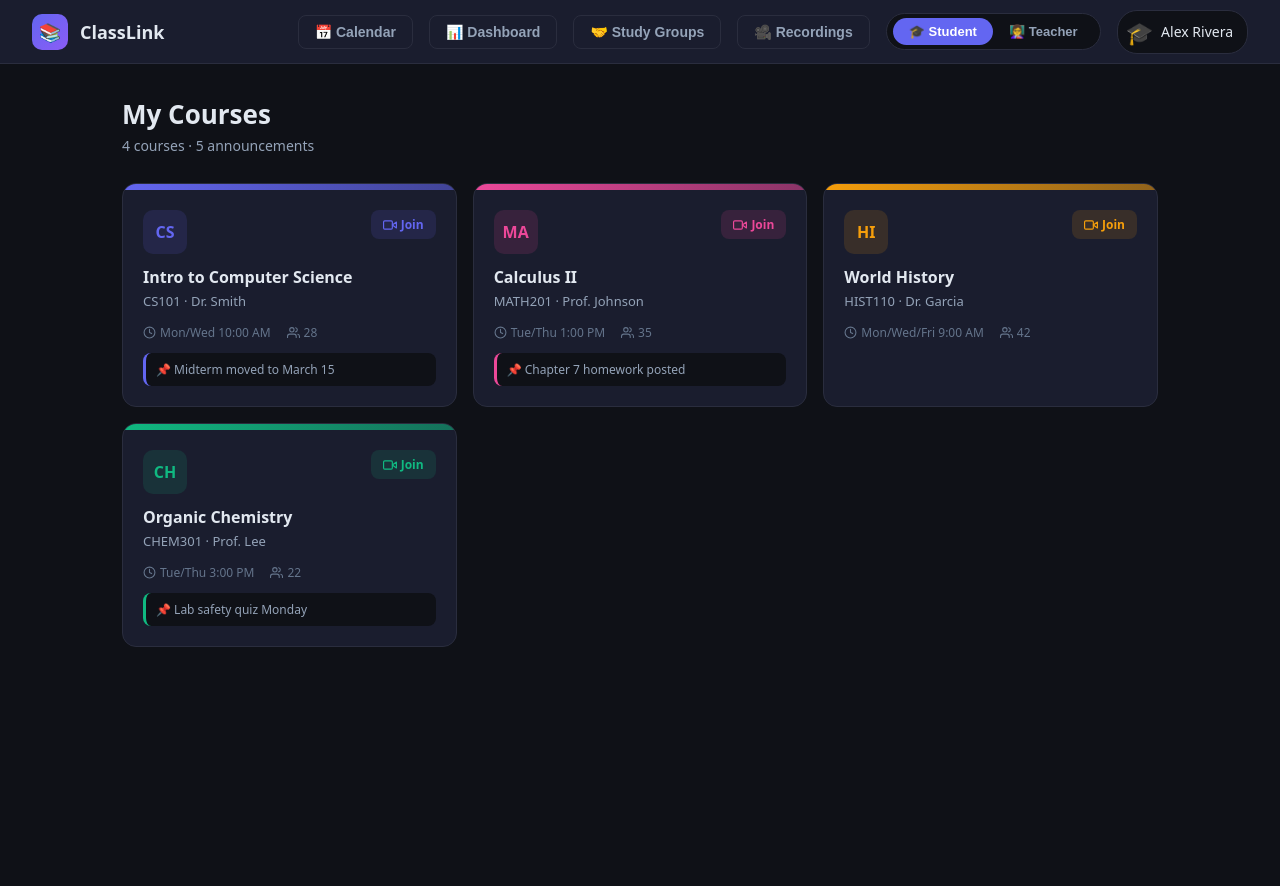
Test: App component › search filters recordings by title
Click the button "🎥 Recordings" at (804, 32), box left=737, top=14, right=870, bottom=48
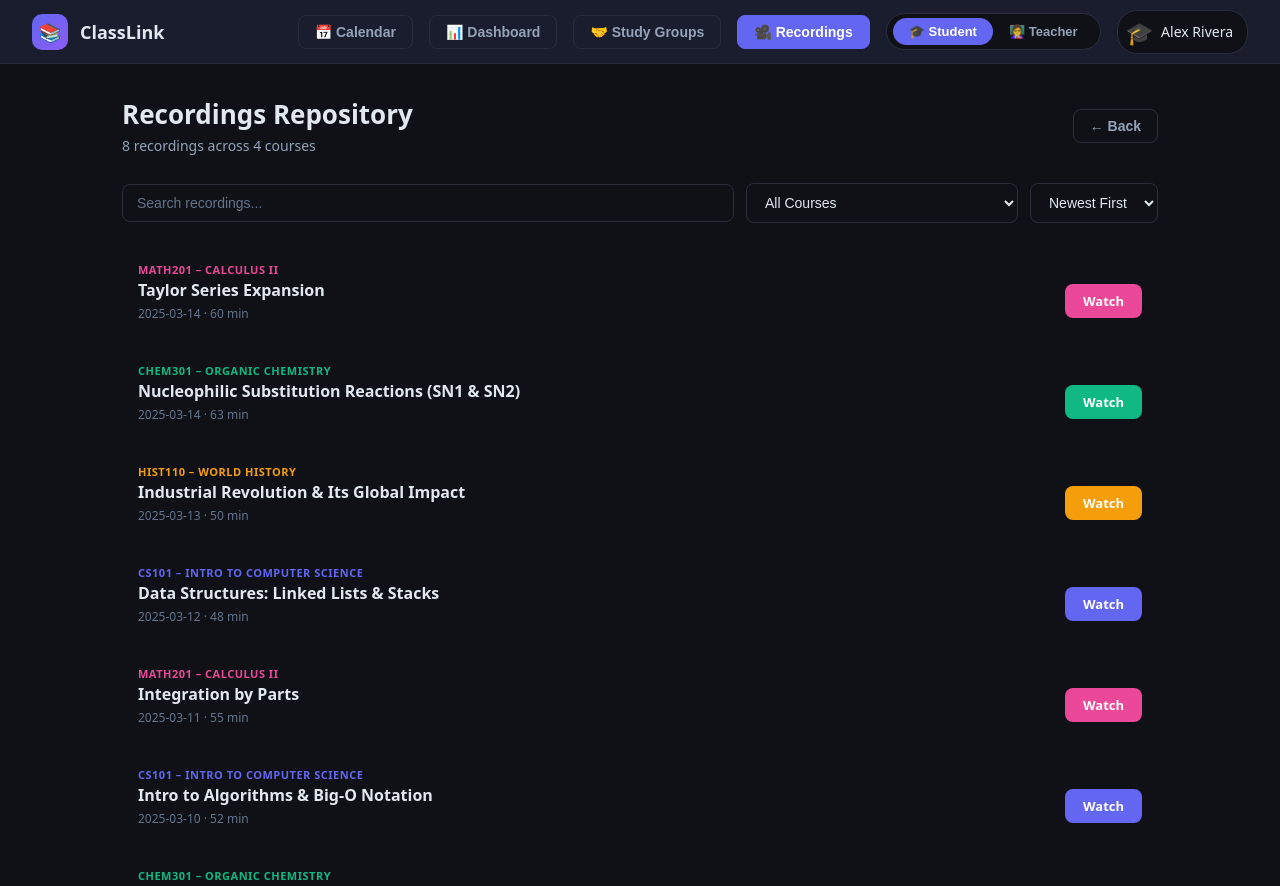
Type "Taylor" into the field with placeholder "Search recordings..." at (428, 203), box left=122, top=184, right=734, bottom=222
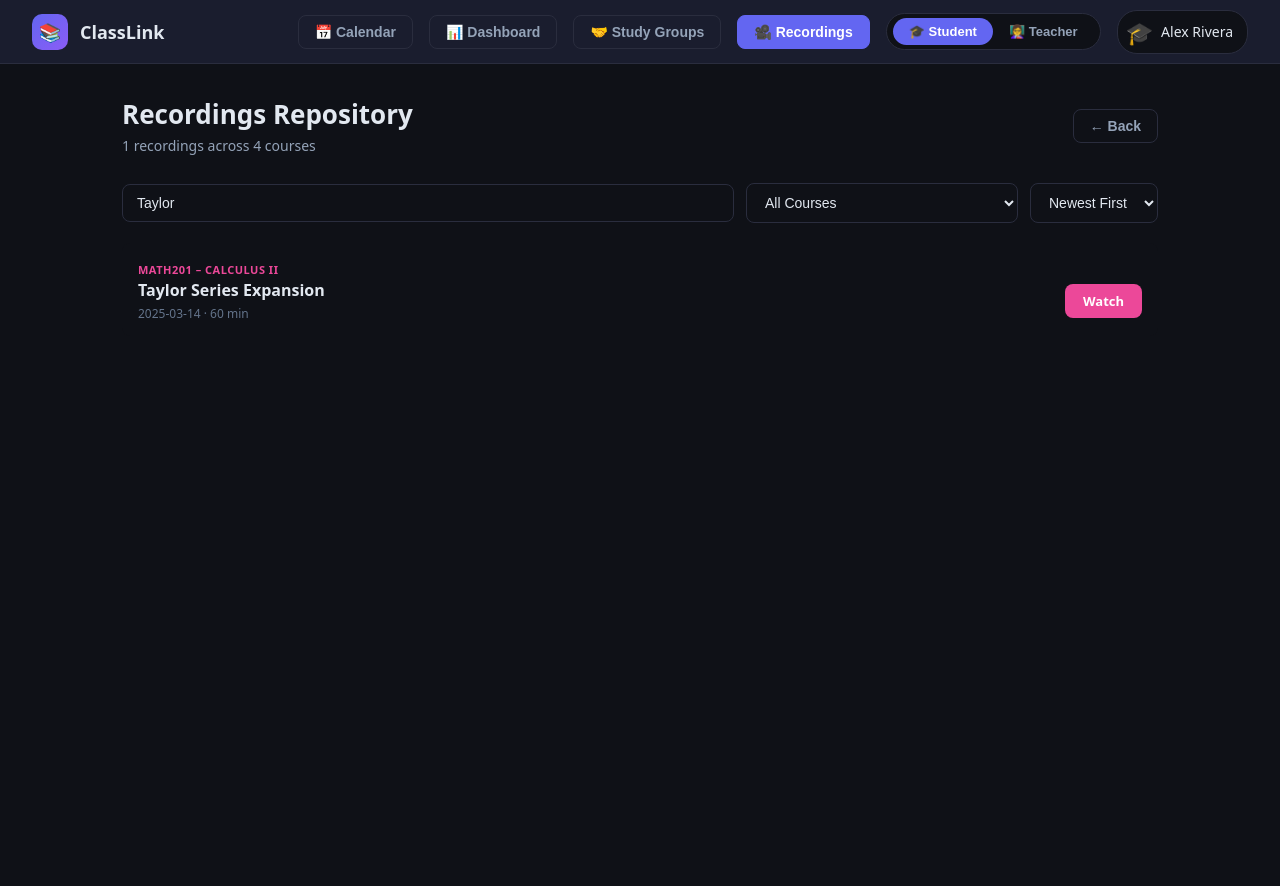
Expected: the text "Taylor Series Expansion" is shown, left=138, top=279, right=325, bottom=301
Expected: the text "Intro to Algorithms" is gone
